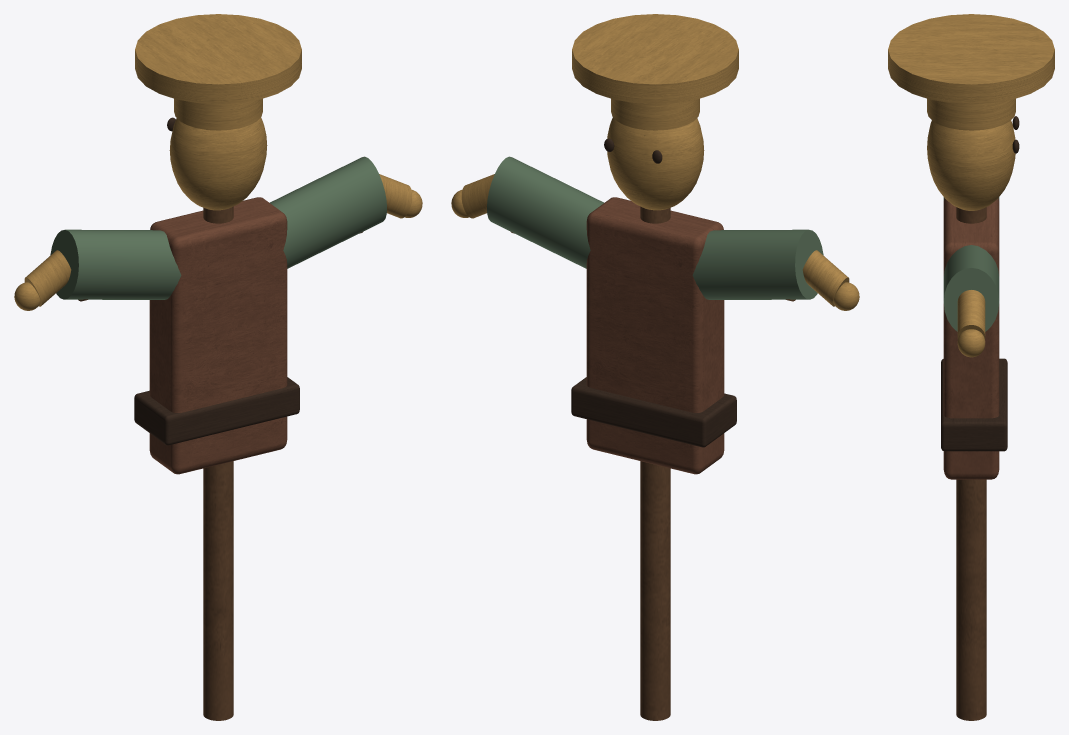
File: scarecrow.glb
3 views of the same model, side by side, from view 1: azimuth 30°, elevation 25°; view 2: azimuth 150°, elevation 25°; view 3: azimuth 270°, elevation 25° (orthographic).
Parts seen in each view (by area): view 1: scarecrow; view 2: scarecrow; view 3: scarecrow.
Boxes of the visible parts, <box> form: scarecrow: <box>14,14,422,720</box>; scarecrow: <box>451,14,859,720</box>; scarecrow: <box>888,14,1054,720</box>.
Bounding box in the file's own units: 1.4 × 2.2 × 0.5.
Materials: 1 (1 with a texture image).
